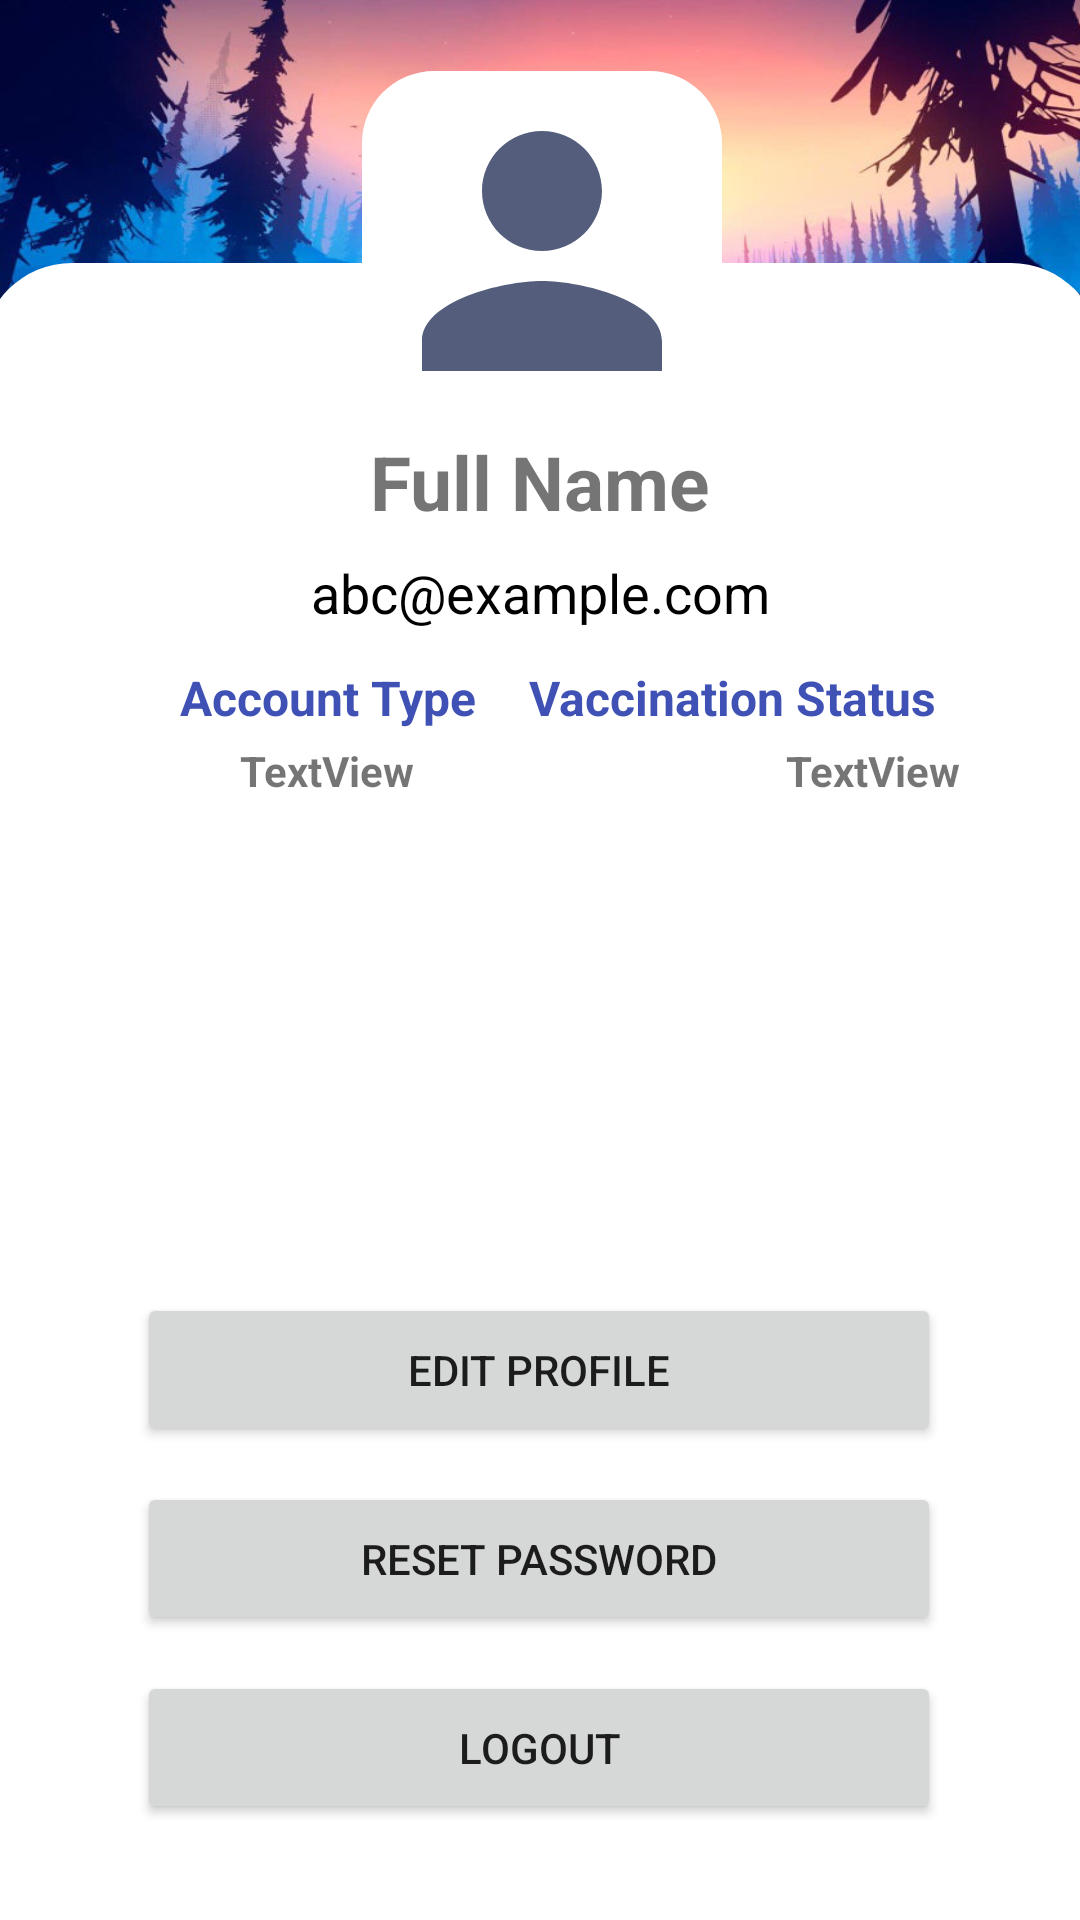

Icon click points for this 1080*1920 phone screenshot, format (x,y):
person: (542,251)
